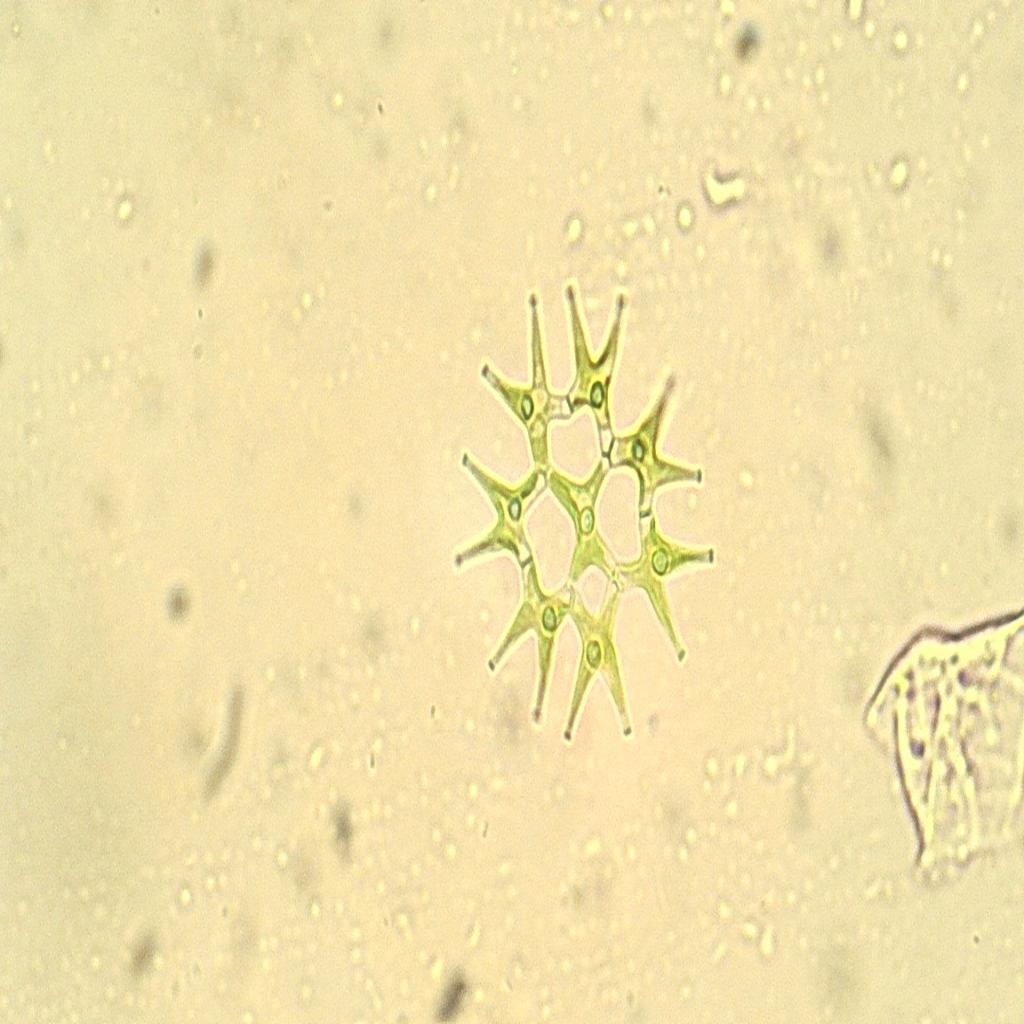Pediastrum_1T: (428, 266, 754, 762)
